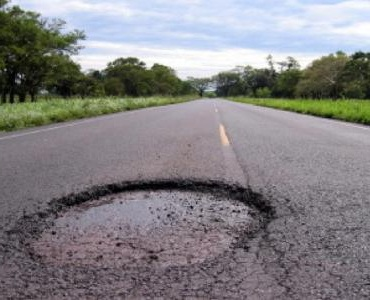pothole: (3, 176, 278, 284)
